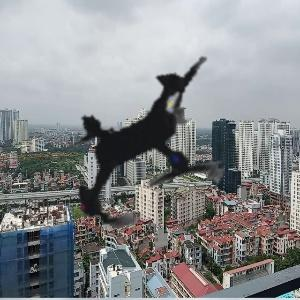drone: (1, 4, 294, 297)
